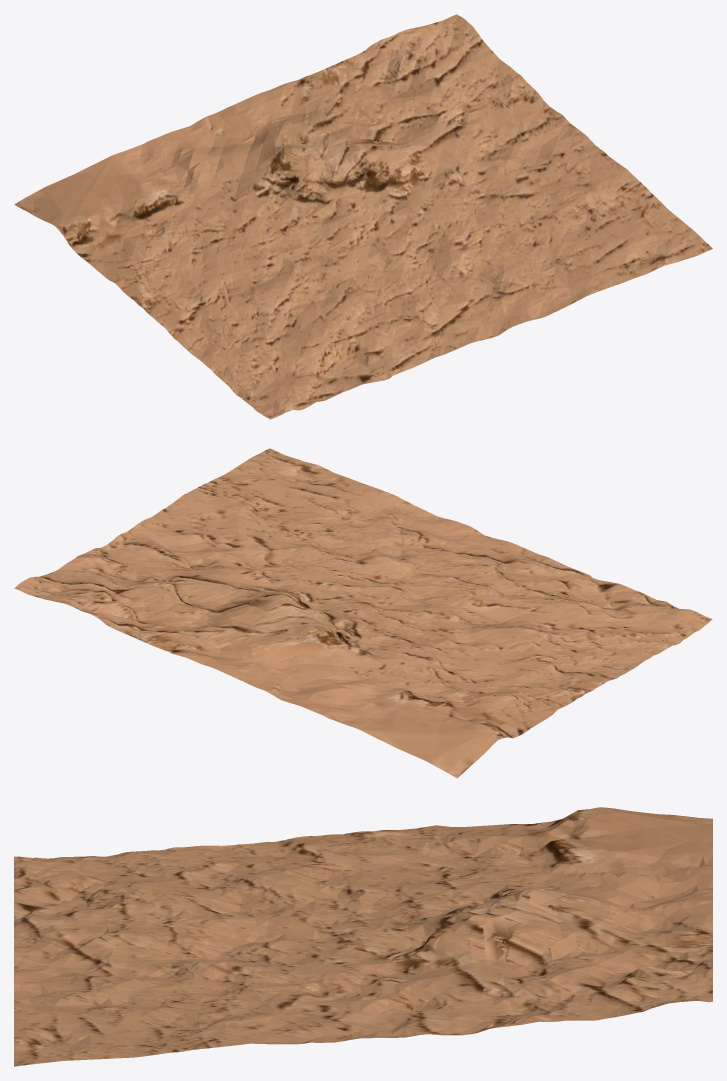
3 renders of one model, top to bottom at view 1: azimuth 30°, elevation 25°; view 2: azimuth 150°, elevation 25°; view 3: azimuth 270°, elevation 25°, orthographic. The views are drawn at different scales.
Bounding box in the file's own units: 1.04 × 0.2522 × 1.04.
2 materials, 2 textured.
